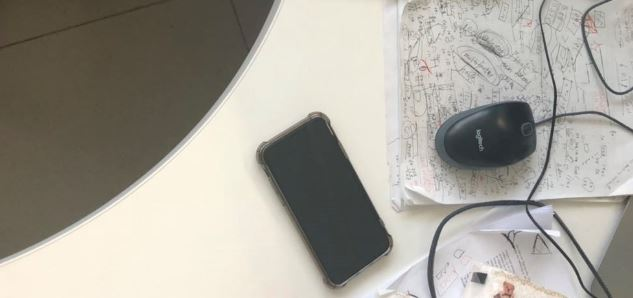mobil: (253, 111, 395, 289)
